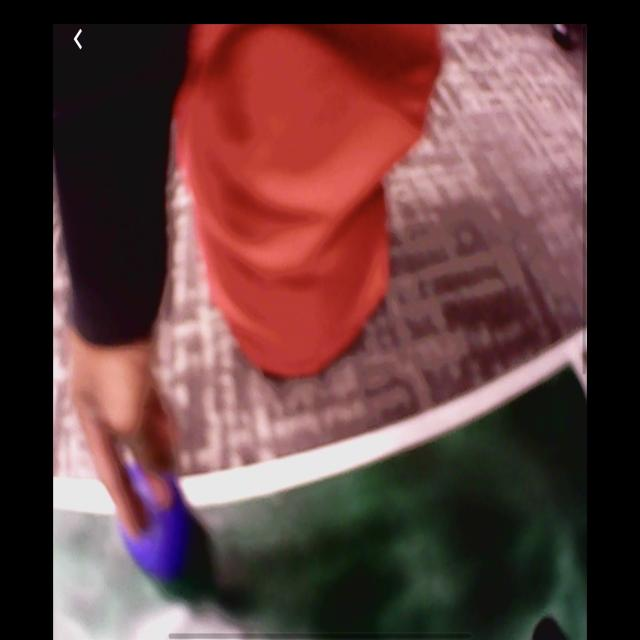ball: (122, 469, 186, 577)
